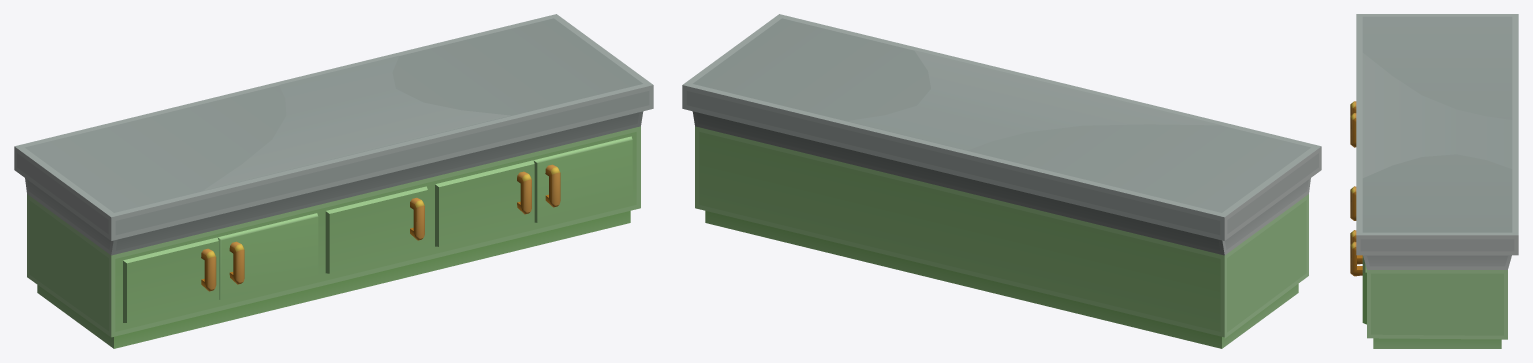
The model's file is RestaurantIsland_0.glb.
The picture shows the model from 3 angles, left to right: view 1: azimuth 30°, elevation 25°; view 2: azimuth 150°, elevation 25°; view 3: azimuth 270°, elevation 25°; orthographic projection. The views are drawn at different scales.
Visible parts, largest first — view 1: RestaurantIsland; view 2: RestaurantIsland; view 3: RestaurantIsland.
Boxes of the visible parts, x1,y1,x2,y2 form: RestaurantIsland: (14, 14, 653, 348); RestaurantIsland: (682, 14, 1321, 348); RestaurantIsland: (1350, 14, 1518, 348).
Bounding box in the file's own units: 2 × 0.5033 × 0.6436.
